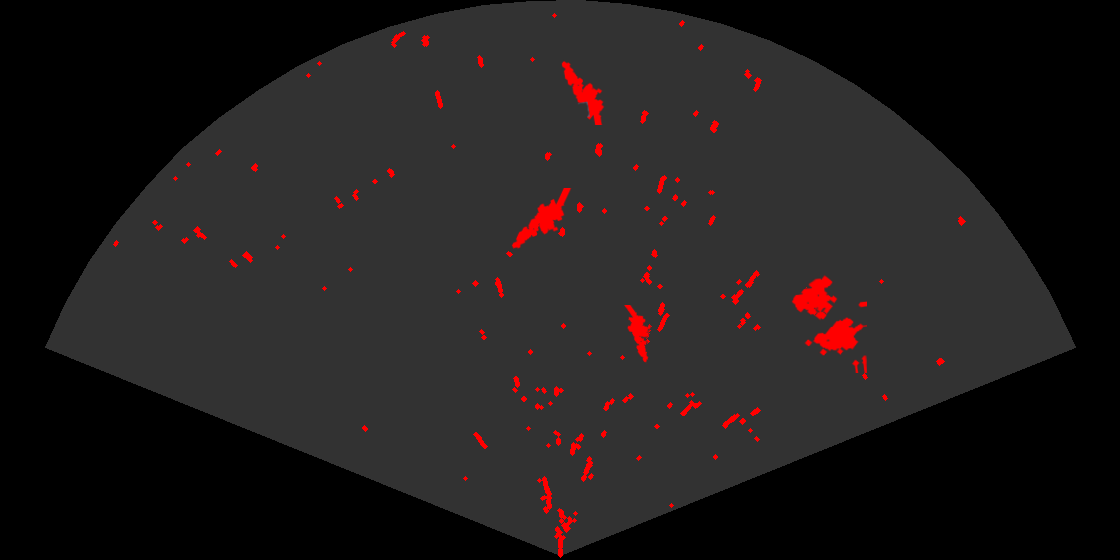cage: (790, 273, 867, 373)
frogman: (510, 188, 573, 250), (560, 59, 606, 125), (623, 305, 652, 364)
